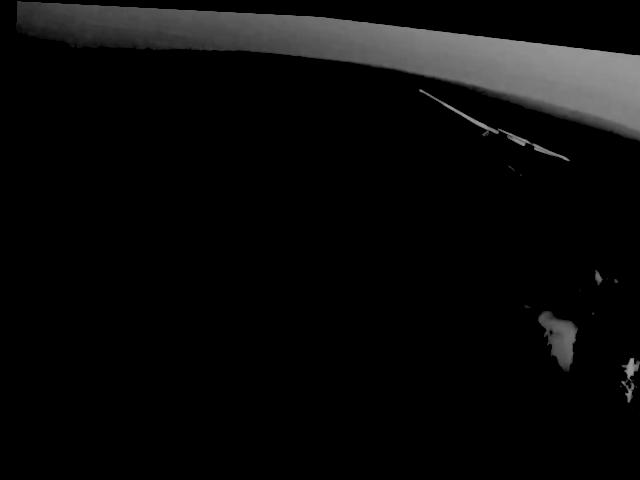hedef: (407, 71, 577, 194)
